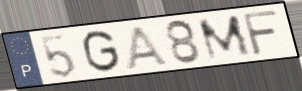5: (38, 32, 78, 78)
8: (164, 18, 202, 67)
A: (124, 24, 172, 70)
F: (240, 9, 281, 58)
G: (81, 28, 123, 74)
M: (195, 13, 254, 62)
